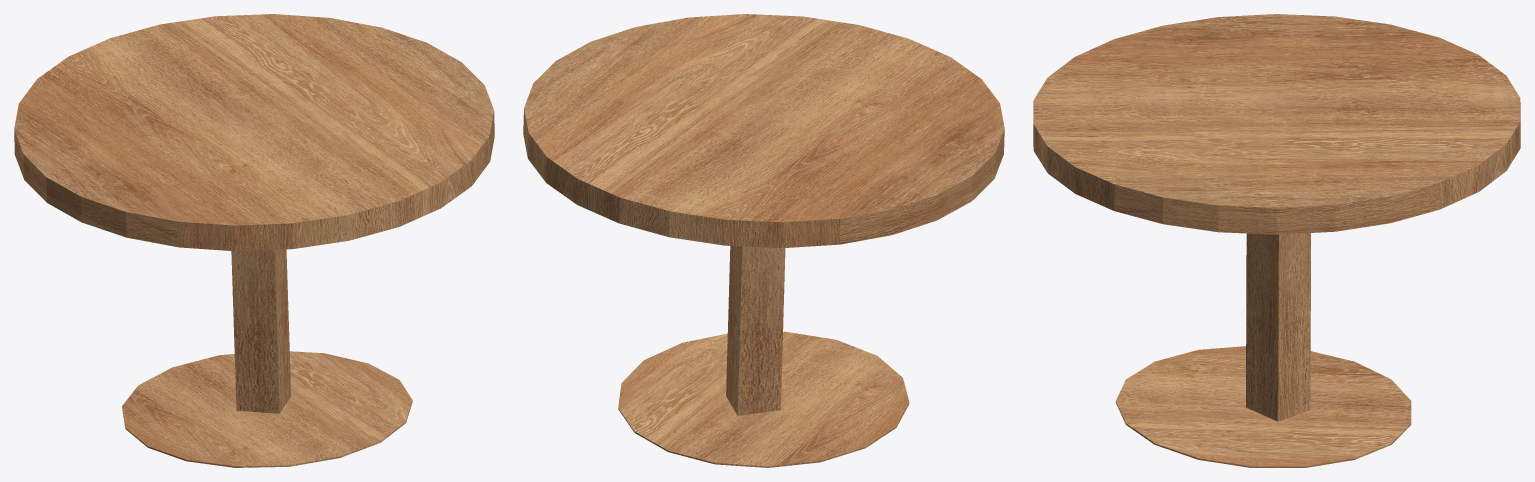
The model's file is 29373_ours.glb.
The picture shows the model from 3 angles, left to right: view 1: azimuth 30°, elevation 25°; view 2: azimuth 150°, elevation 25°; view 3: azimuth 270°, elevation 25°; orthographic projection. The views are drawn at different scales.
Parts seen in each view (by area): view 1: ParentEmpty; view 2: ParentEmpty; view 3: ParentEmpty.
Boxes of the visible parts, left/top/right/bottom form: ParentEmpty: left=14, top=14, right=494, bottom=467; ParentEmpty: left=523, top=14, right=1004, bottom=467; ParentEmpty: left=1033, top=14, right=1520, bottom=467.
Size of the model in its own units: 1 by 0.6885 by 0.9917.
1 material, 1 textured.
